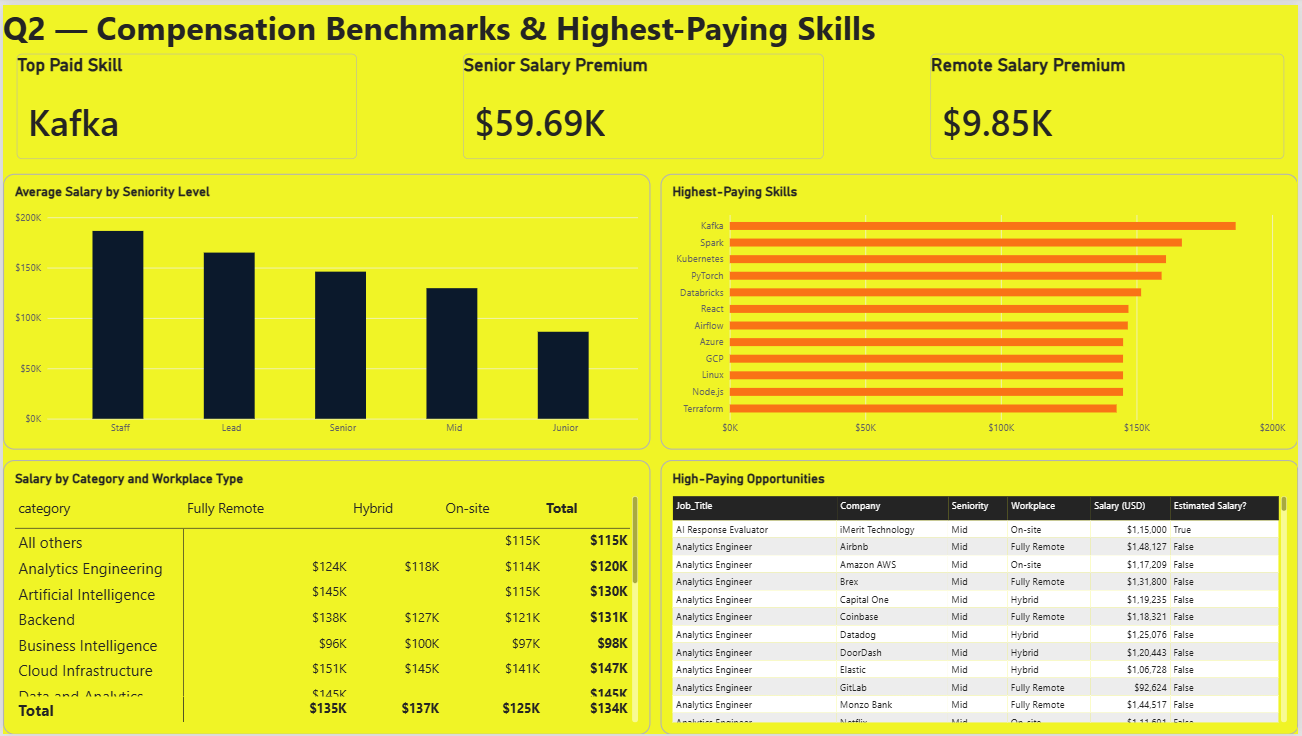

What the dashboard file says about the page in this screenshot:
{"tool":"powerbi","page":{"name":"Compensation Intelligence","canvas":[1920,1080],"ordinal":2},"visuals":[{"type":"textbox","box":[0,0,1395.7,102.1],"z":0},{"type":"cardVisual","title":"Top Paid Skill","fields":{"Data":["fact_jobs.Top Paid Skill"]},"box":[20,72,504,156],"z":1},{"type":"cardVisual","title":"Senior Salary Premium","fields":{"Data":["fact_jobs.Senior Salary Premium"]},"box":[682,72,534,156],"z":2},{"type":"cardVisual","title":"Remote Salary Premium","fields":{"Data":["fact_jobs.Remote Salary Premium"]},"box":[1374,72,524,156],"z":3},{"type":"clusteredColumnChart","title":"Average Salary by Seniority Level","fields":{"Category":["fact_jobs.seniority_level"],"Y":["fact_jobs.Avg Salary USD"]},"box":[0,249.7,959.1,409],"z":4},{"type":"clusteredBarChart","title":"Highest-Paying Skills","fields":{"Category":["job_skills_bridge.skill_name"],"Y":["fact_jobs.Avg Salary USD"]},"box":[973.6,249.7,944.6,409],"z":5},{"type":"pivotTable","title":"Salary by Category and Workplace Type","fields":{"Columns":["fact_jobs.remote_type"],"Rows":["fact_jobs.category"],"Values":["fact_jobs.Avg Salary USD"]},"box":[0,673.2,959.1,407.2],"z":6},{"type":"tableEx","title":"High-Paying Opportunities","fields":{"Values":["fact_jobs.job_title","fact_jobs.company_name","fact_jobs.seniority_level","fact_jobs.remote_type","fact_jobs.salary_avg","fact_jobs.is_salary_predicted"]},"box":[973.6,673.2,946.5,407.2],"z":7}]}

Visuals, with their boxes in screenshot pixels (x1, y1, x2, y2), scaled from the page's 1920x1080 canvas onto the 1302x736 screenshot:
textbox: (0, 0, 946, 70)
"Top Paid Skill" cardVisual: (14, 49, 355, 155)
"Senior Salary Premium" cardVisual: (462, 49, 825, 155)
"Remote Salary Premium" cardVisual: (932, 49, 1287, 155)
"Average Salary by Seniority Level" clusteredColumnChart: (0, 170, 650, 449)
"Highest-Paying Skills" clusteredBarChart: (660, 170, 1301, 449)
"Salary by Category and Workplace Type" pivotTable: (0, 459, 650, 735)
"High-Paying Opportunities" tableEx: (660, 459, 1301, 735)
